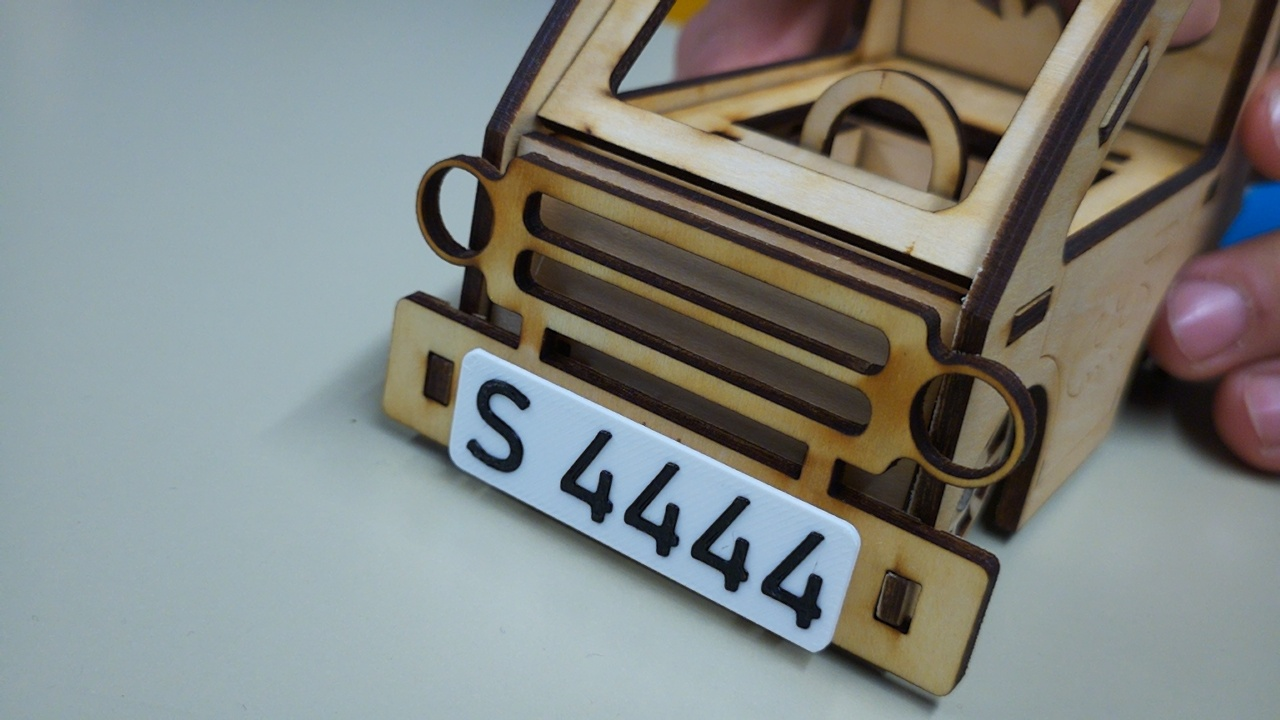license_plate: (446, 345, 865, 657)
